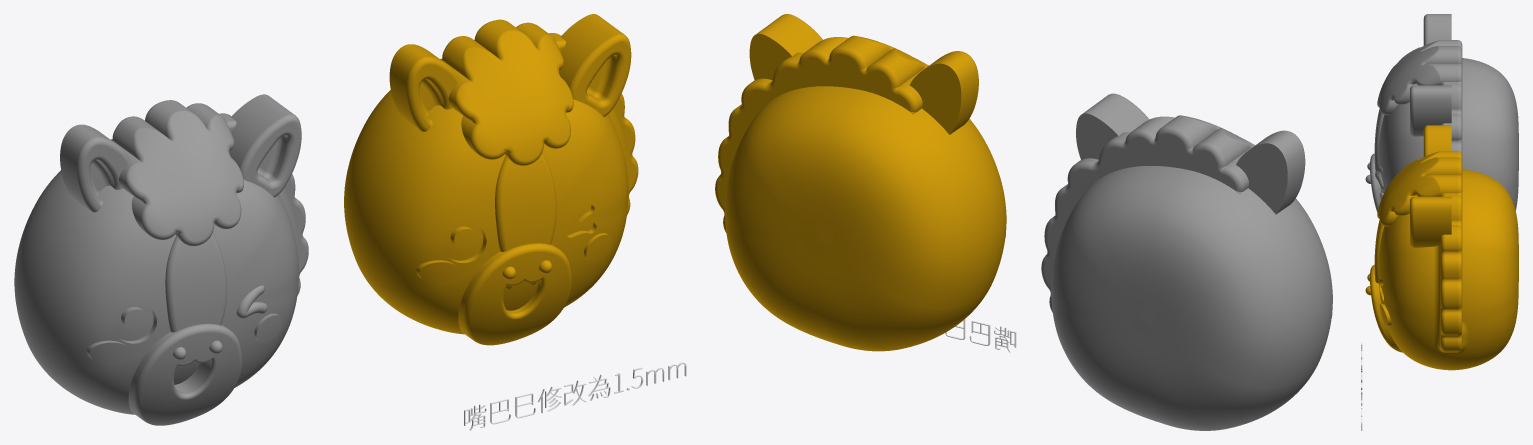
Rendered from Violin-v1.glb.
The picture shows the model from 3 angles, left to right: view 1: azimuth 30°, elevation 25°; view 2: azimuth 150°, elevation 25°; view 3: azimuth 270°, elevation 25°; orthographic projection. The views are drawn at different scales.
Parts seen in each view (by area): view 1: horse-old.001, horse-New.001, 1; view 2: horse-New.001, horse-old.001, 1; view 3: horse-New.001, horse-old.001, 1.
Boxes of the visible parts, x1,y1,x2,y2 form: horse-old.001: (14, 94, 308, 425); horse-New.001: (344, 14, 638, 345); 1: (464, 362, 686, 430); horse-New.001: (715, 14, 1006, 351); horse-old.001: (1041, 93, 1332, 430); 1: (945, 319, 1016, 352); horse-New.001: (1365, 125, 1518, 370); horse-old.001: (1365, 14, 1518, 212); 1: (1361, 342, 1362, 430).
Bounding box in the file's own units: 0.1096 × 0.0588 × 0.036.
